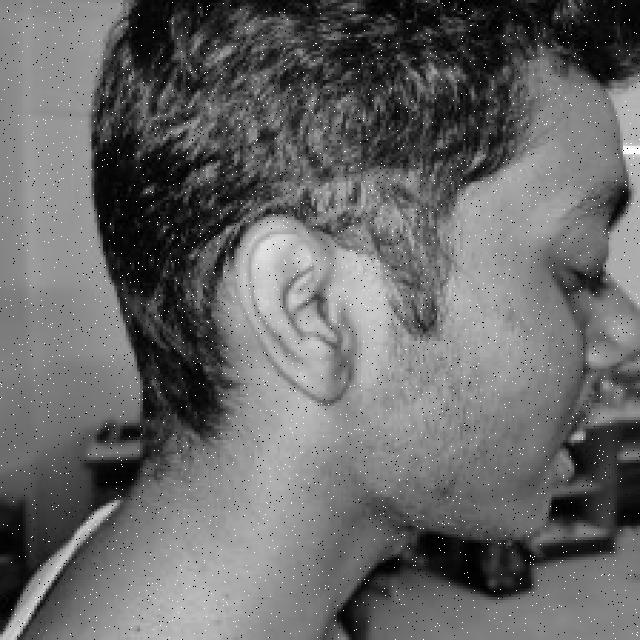ear: (231, 211, 346, 400)
